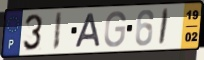3: (21, 13, 45, 53)
6: (134, 9, 155, 48)
A: (74, 12, 102, 49)
G: (103, 9, 127, 49)
I: (157, 7, 170, 47), (51, 11, 63, 52)
